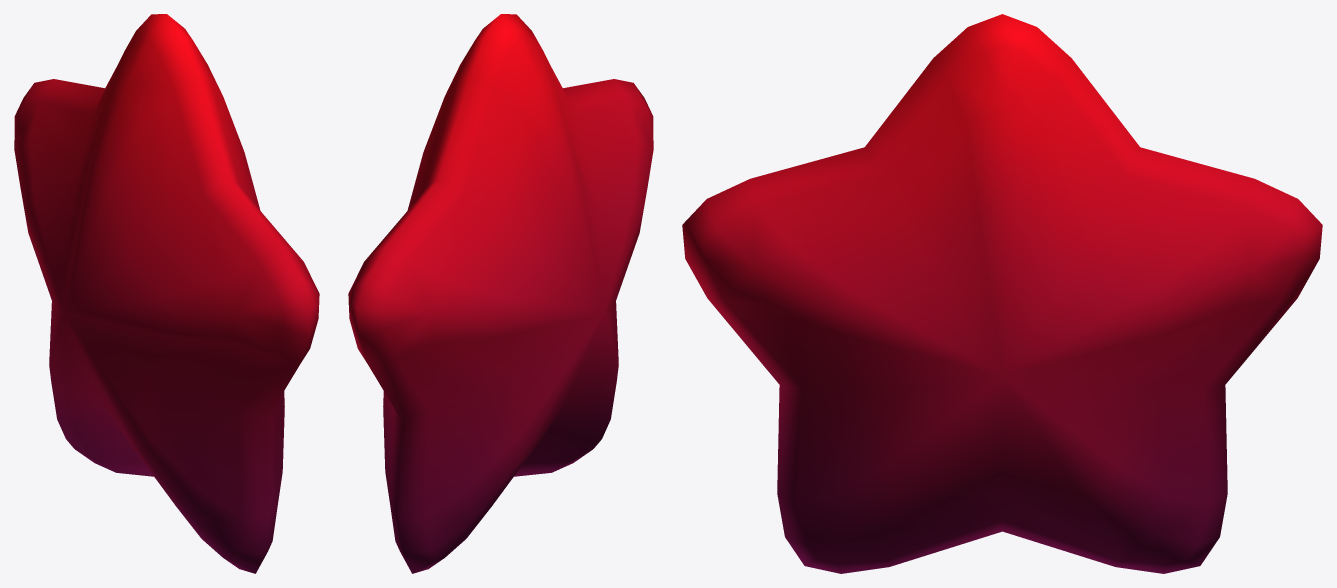
Rendered from Star_4.fbx.
The picture shows the model from 3 angles, left to right: view 1: azimuth 30°, elevation 25°; view 2: azimuth 150°, elevation 25°; view 3: azimuth 270°, elevation 25°; orthographic projection. The views are drawn at different scales.
Visible parts, largest first — view 1: Stars_4; view 2: Stars_4; view 3: Stars_4.
Boxes of the visible parts, x1=… form: Stars_4: x1=14, y1=14, x2=319, y2=573; Stars_4: x1=348, y1=14, x2=653, y2=573; Stars_4: x1=682, y1=14, x2=1322, y2=573.
Size of the model in its own units: 56.11 by 130 by 134.
